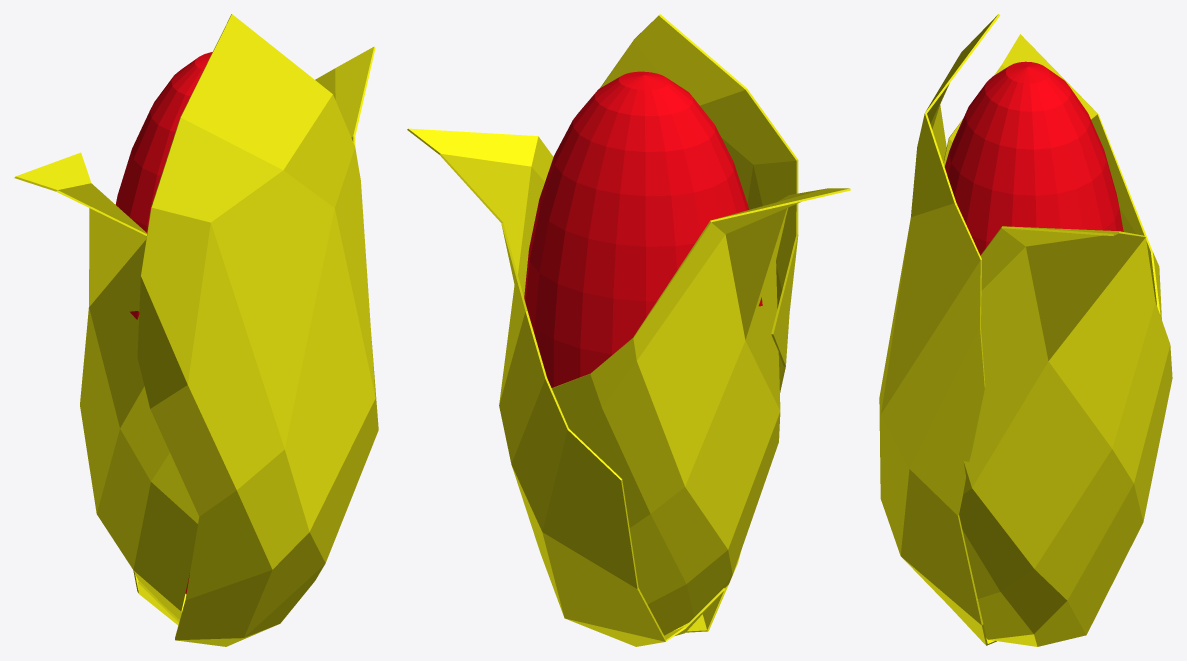
File: mazorca_roja.fbx
3 views of the same model, side by side, from view 1: azimuth 30°, elevation 25°; view 2: azimuth 150°, elevation 25°; view 3: azimuth 270°, elevation 25° (orthographic). The views are drawn at different scales.
Parts seen in each view (by area): view 1: Mazorca_Roja; view 2: Mazorca_Roja; view 3: Mazorca_Roja.
Part boxes in pixels (box(x1,y1,x2,y2)): Mazorca_Roja: box(14, 14, 378, 646); Mazorca_Roja: box(407, 14, 850, 646); Mazorca_Roja: box(879, 14, 1172, 646).
Bounding box in the file's own units: 202 × 301 × 127.
